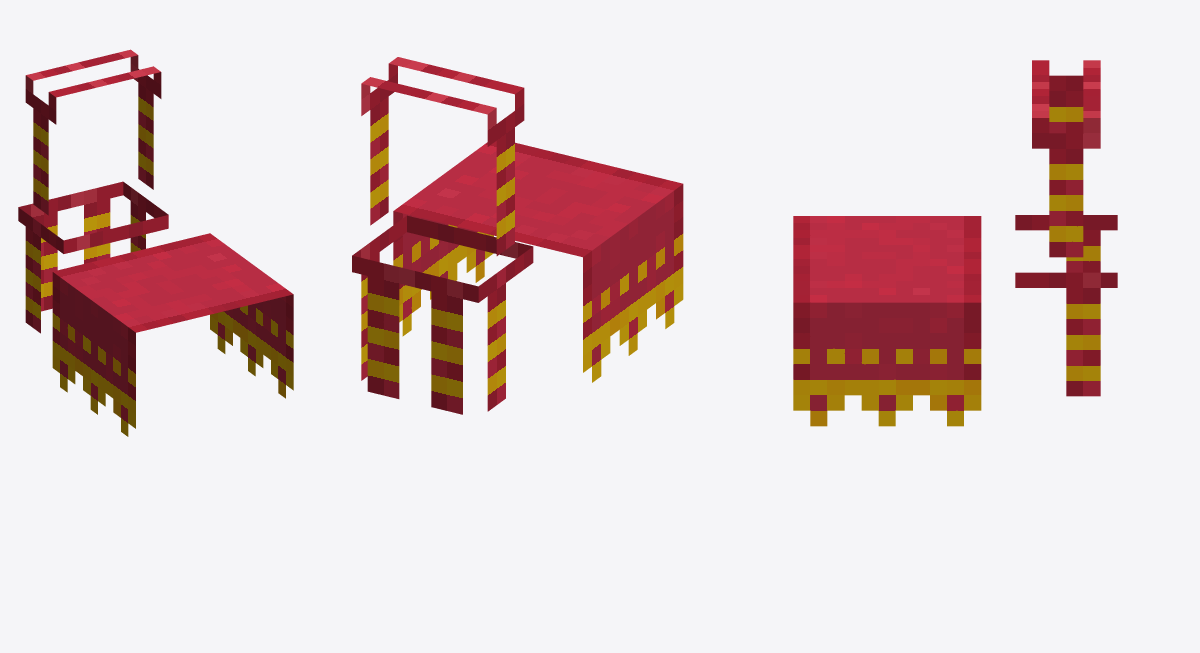
The model's file is llama_baby_decor.gltf.
3 views of the same model, side by side, from view 1: azimuth 30°, elevation 25°; view 2: azimuth 150°, elevation 25°; view 3: azimuth 270°, elevation 25° (orthographic). The views are drawn at different scales.
Parts seen in each view (by area): view 1: body, head; view 2: body, head; view 3: body, head.
Part boxes in pixels (x1,y1,x2,y2): body: (52,233,293,436); head: (18,49,168,333); body: (393,141,683,382); head: (352,57,533,414); body: (793,216,981,426); head: (1015,60,1117,396).
Bounding box in the file's own units: 1.06 × 2.25 × 1.62.
Materials: 1 (1 with a texture image).
